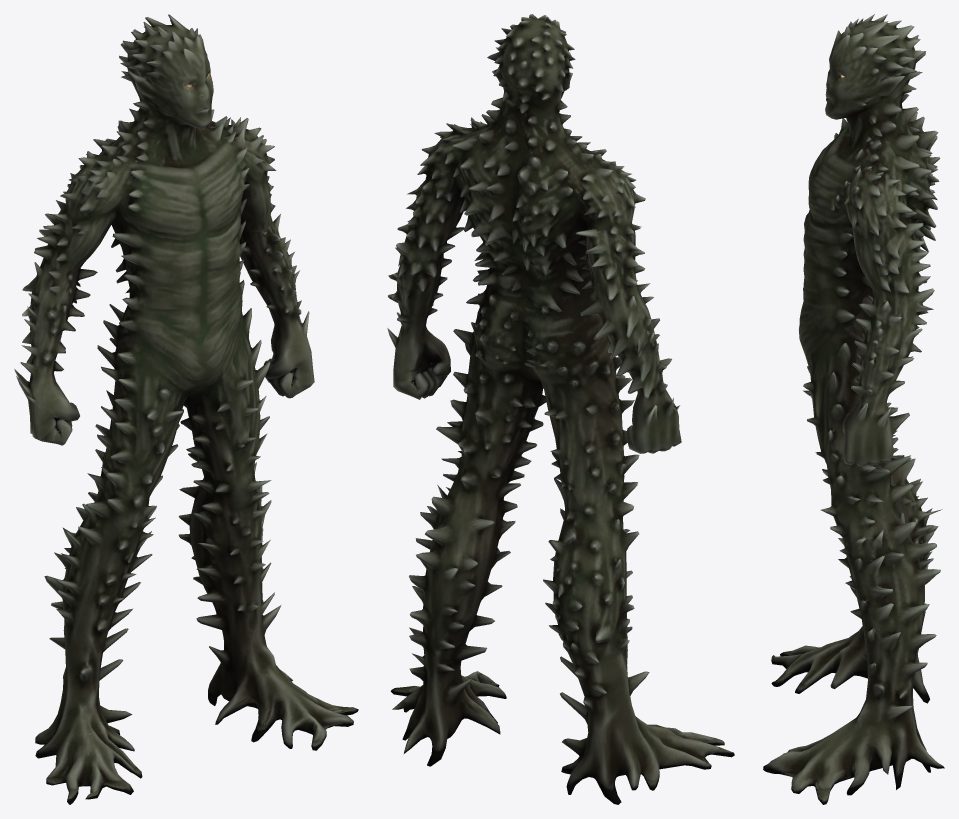
Rendered from Blight Needle.glb.
The picture shows the model from 3 angles, left to right: view 1: azimuth 30°, elevation 25°; view 2: azimuth 150°, elevation 25°; view 3: azimuth 270°, elevation 25°; orthographic projection. The views are drawn at different scales.
Visible parts, largest first — view 1: body_low.001; view 2: body_low.001; view 3: body_low.001.
Part boxes in pixels (bbox=[...]): body_low.001: bbox=[14, 14, 358, 804]; body_low.001: bbox=[387, 14, 734, 804]; body_low.001: bbox=[763, 14, 944, 804].
Bounding box in the file's own units: 2.76 × 6.13 × 1.41.
1 material, 1 textured.
